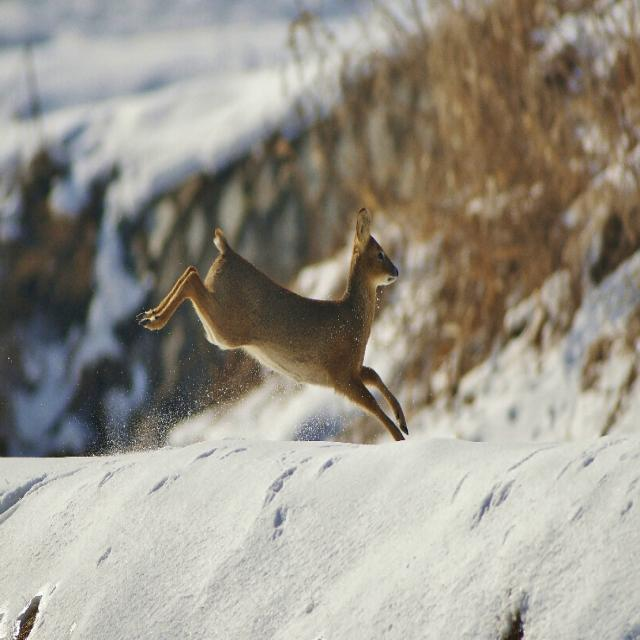elk: (134, 179, 422, 494)
